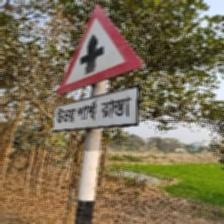Crossroad: (53, 2, 145, 135)
